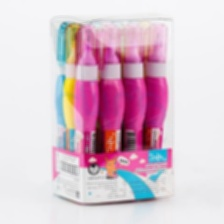correction_fluid: (96, 21, 128, 200), (120, 21, 150, 198), (142, 20, 171, 193), (75, 21, 102, 199), (61, 23, 82, 194), (54, 19, 71, 193)
plastic_box: (48, 10, 179, 207)
